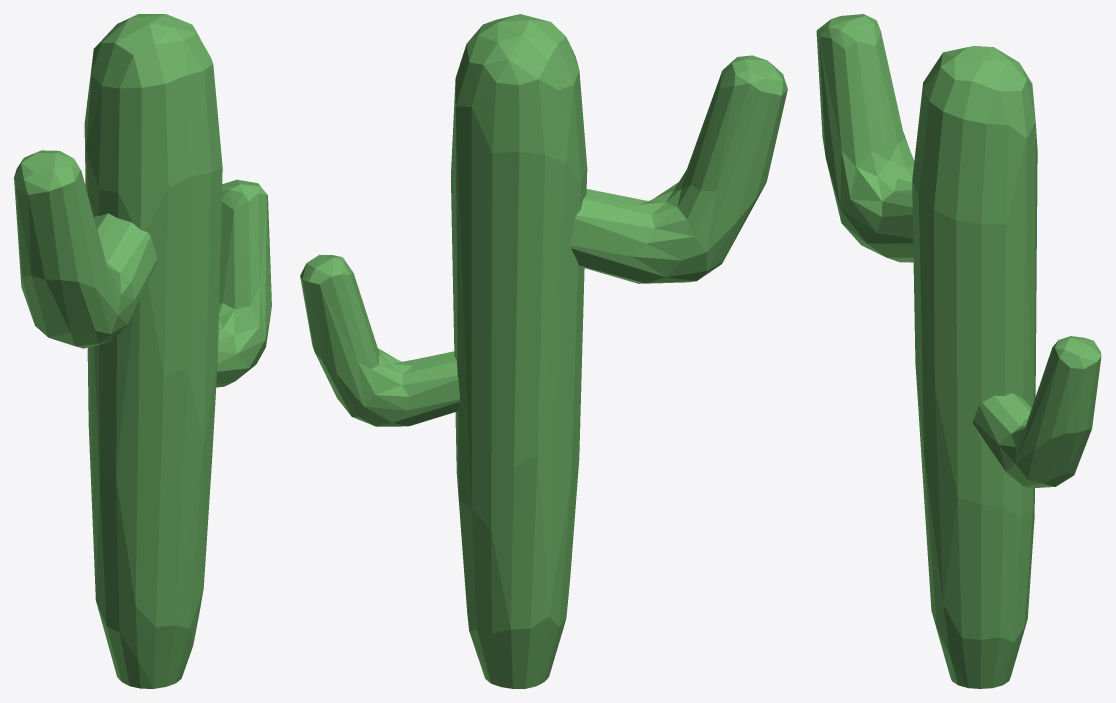
Rendered from Cactus2.fbx.
The picture shows the model from 3 angles, left to right: view 1: azimuth 30°, elevation 25°; view 2: azimuth 150°, elevation 25°; view 3: azimuth 270°, elevation 25°; orthographic projection. The views are drawn at different scales.
Visible parts, largest first — view 1: Cactus2; view 2: Cactus2; view 3: Cactus2.
Part boxes in pixels (<box>): Cactus2: <box>14,14,271,688</box>; Cactus2: <box>300,14,787,688</box>; Cactus2: <box>816,14,1101,688</box>.
Bounding box in the file's own units: 1.65 × 2.83 × 1.17.
